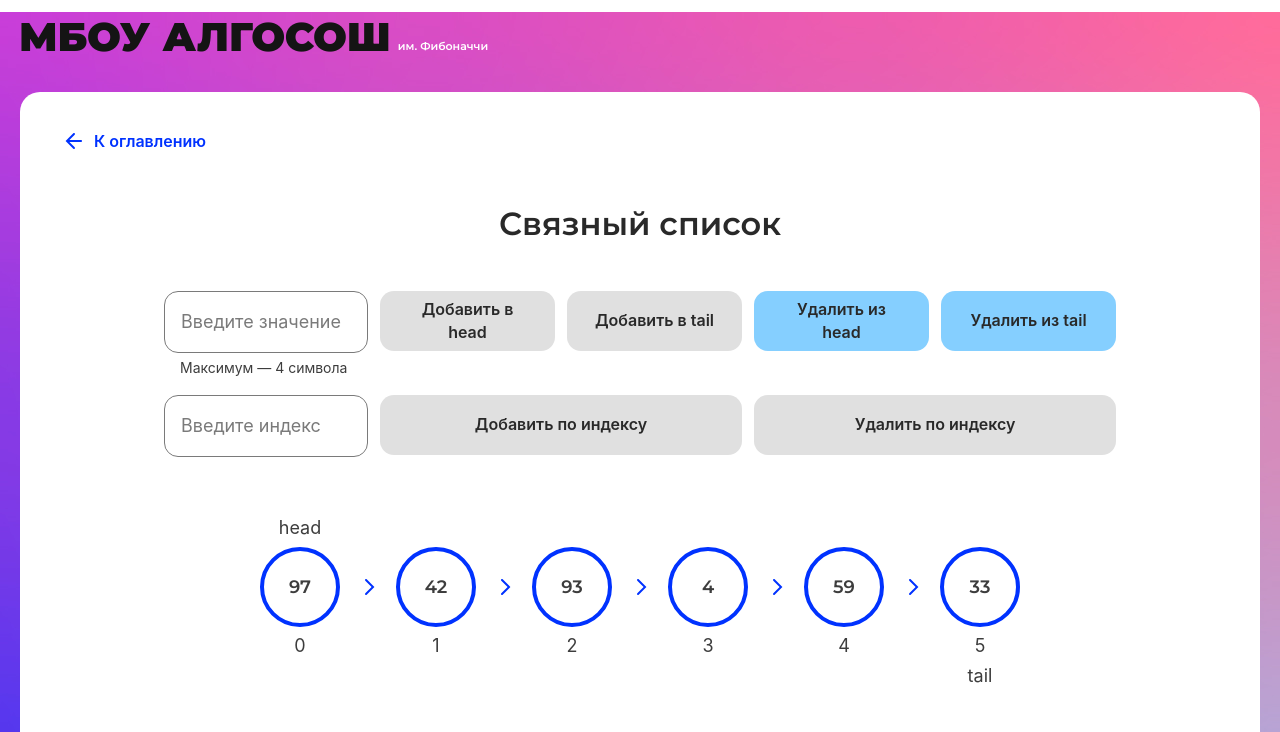
Scenario: Тестирование страницы 'Стек' › Проверка условия - при пустом поле ввода индекса кнопки удаления по индексу неактивна
Expected: the button with test id "deleteByIndex" is disabled, [754,395,1116,455]
Type "1" into the number field with test id "indexInput". click: (266, 426)
box: [164,395,368,457]
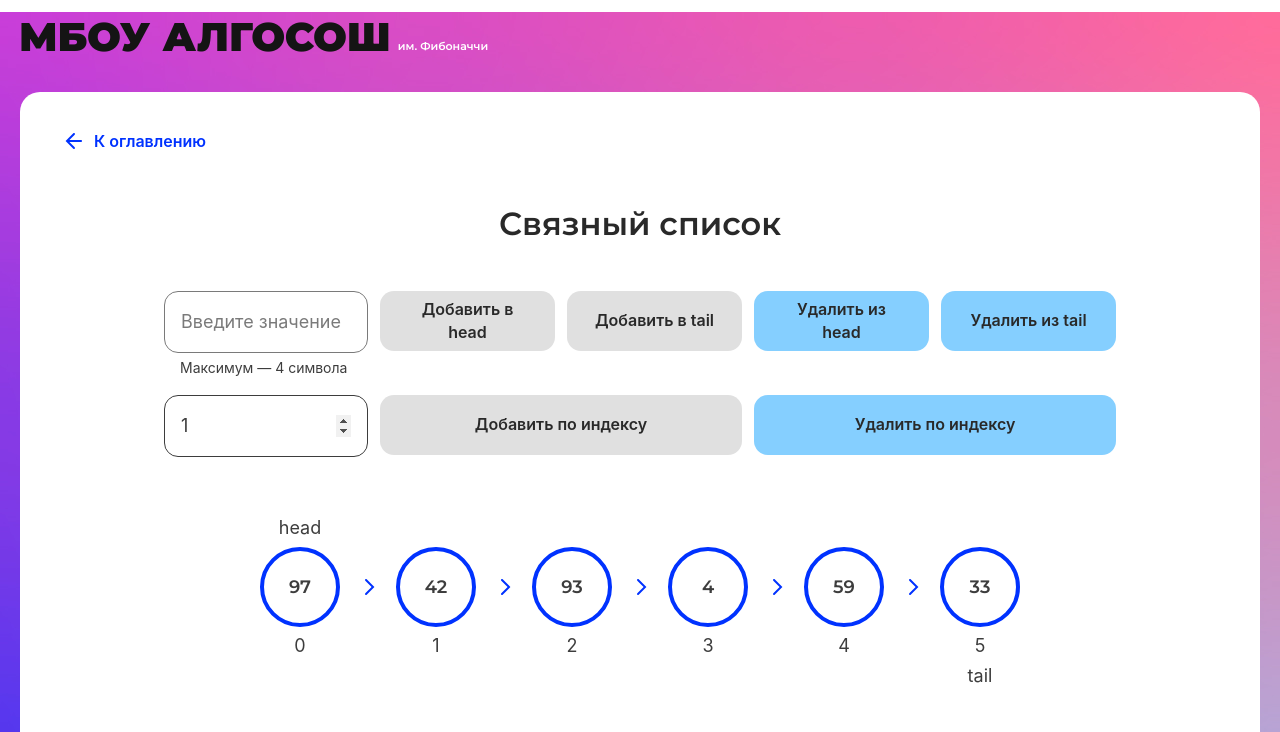
Expected: the element with test id "deleteByIndex" is enabled
Clear the number field with test id "indexInput". click: (266, 426)
box: [164,395,368,457]
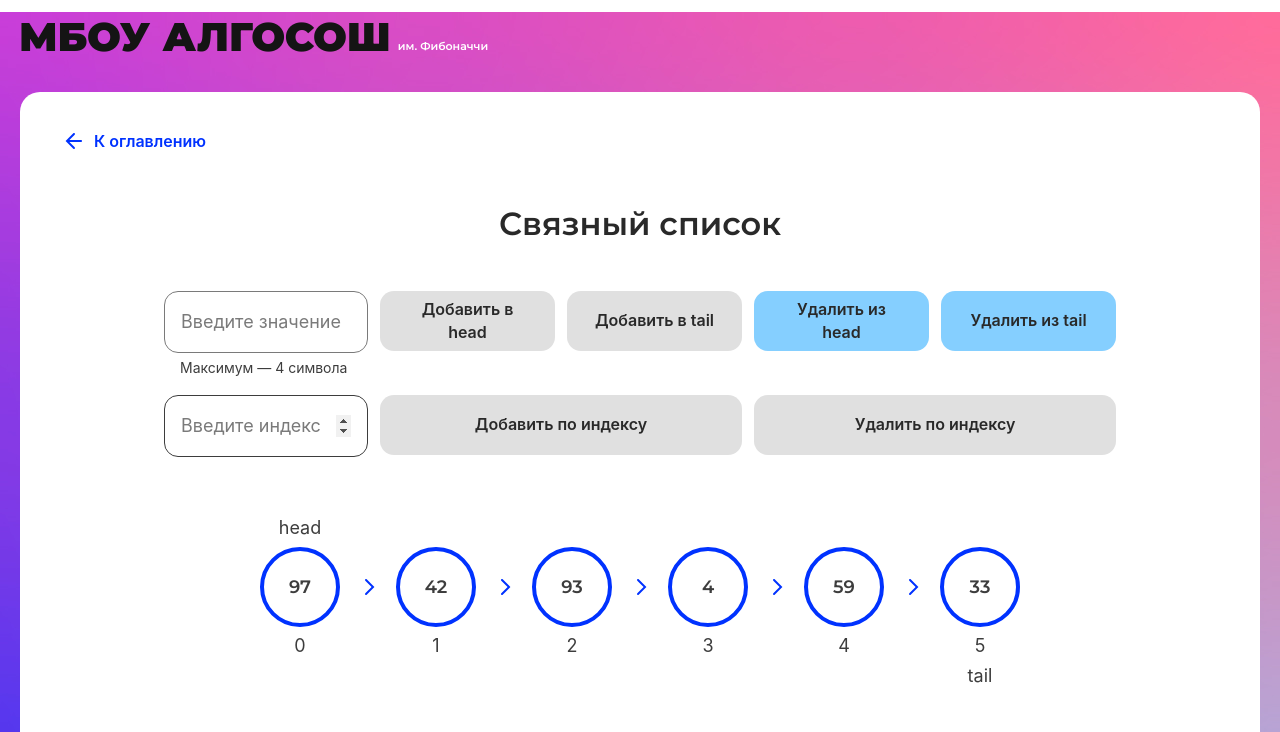
Expected: the button with test id "deleteByIndex" is disabled, [754,395,1116,455]
